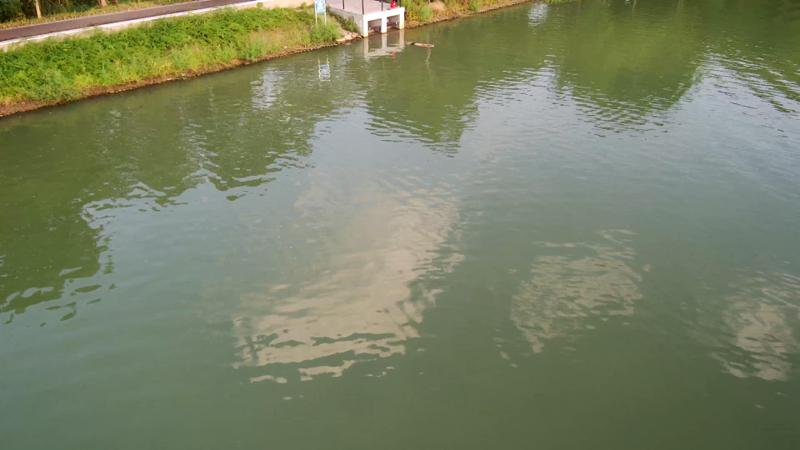swimmers: (406, 41, 435, 48)
